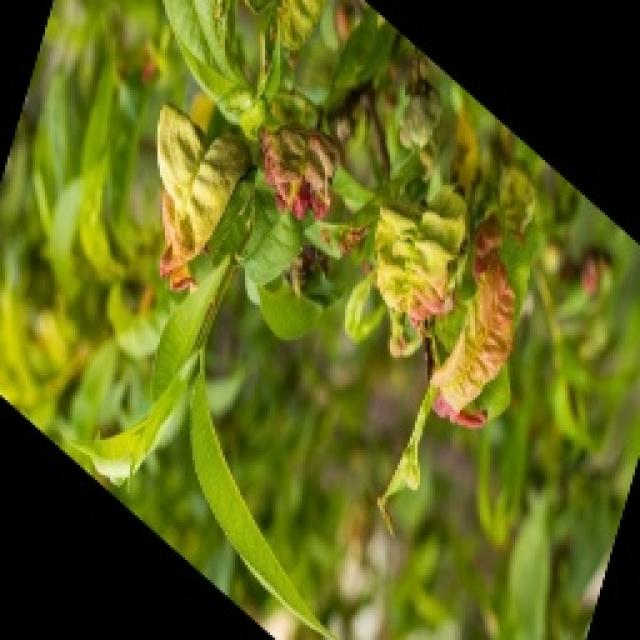peach_leaf_curl: (425, 218, 520, 430), (152, 100, 252, 292)
